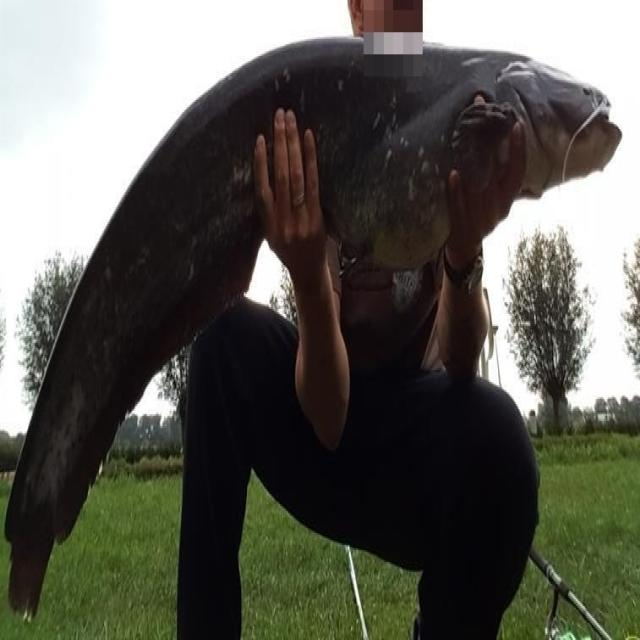Catfish: (1, 13, 625, 626)
